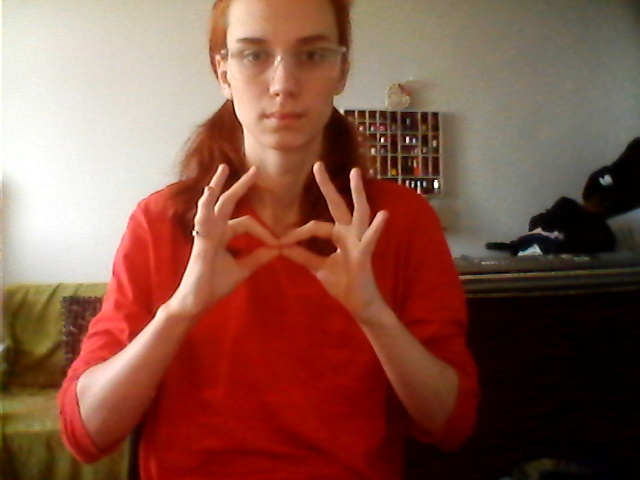b: (181, 158, 394, 324)
